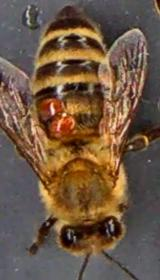varroa_mite: (34, 86, 78, 120), (46, 111, 88, 142)
